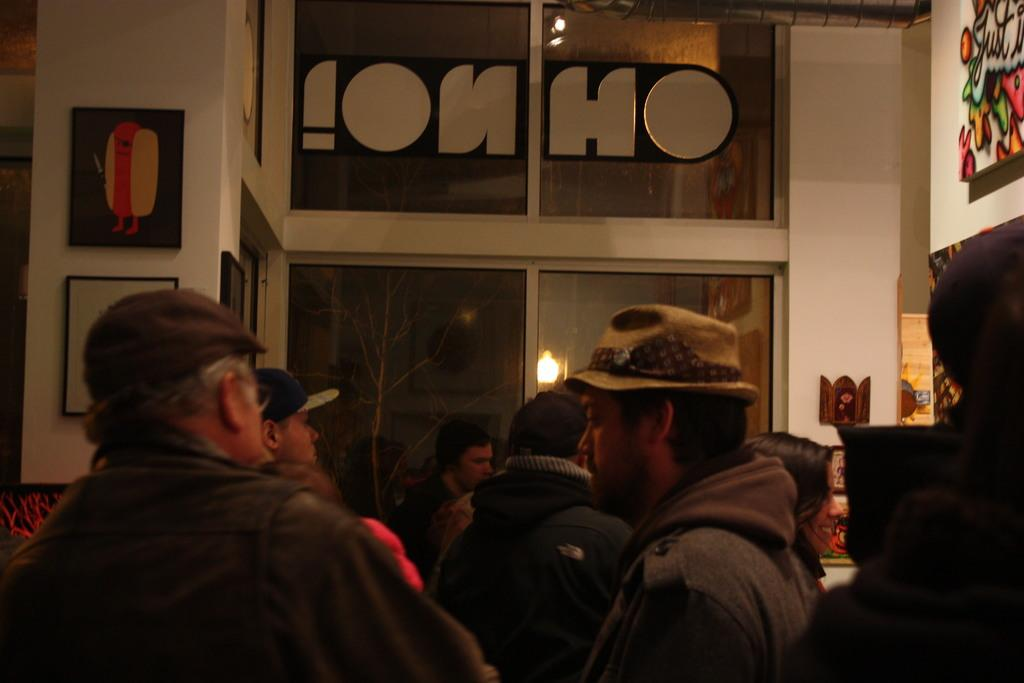Hat: (82, 288, 267, 403), (564, 304, 762, 411), (256, 365, 343, 419)
